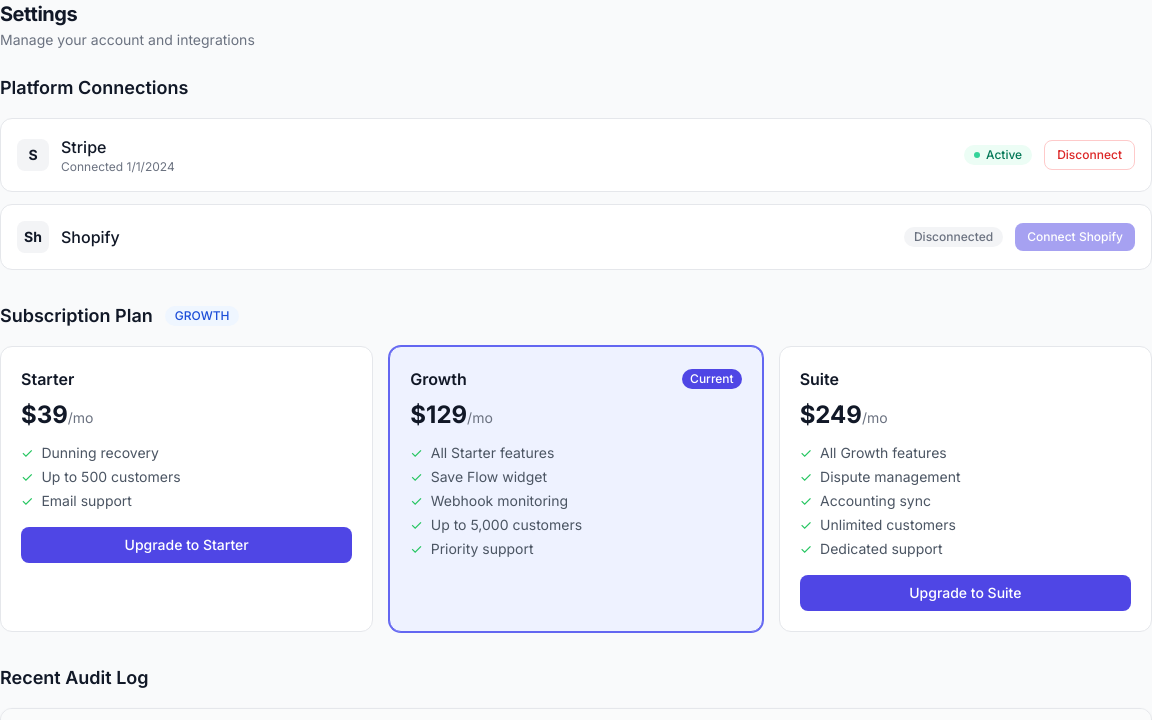
SettingsPage › opens confirm dialog when Disconnect is clicked
Click the button "Disconnect" at (1090, 155), box [1044,140,1135,170]
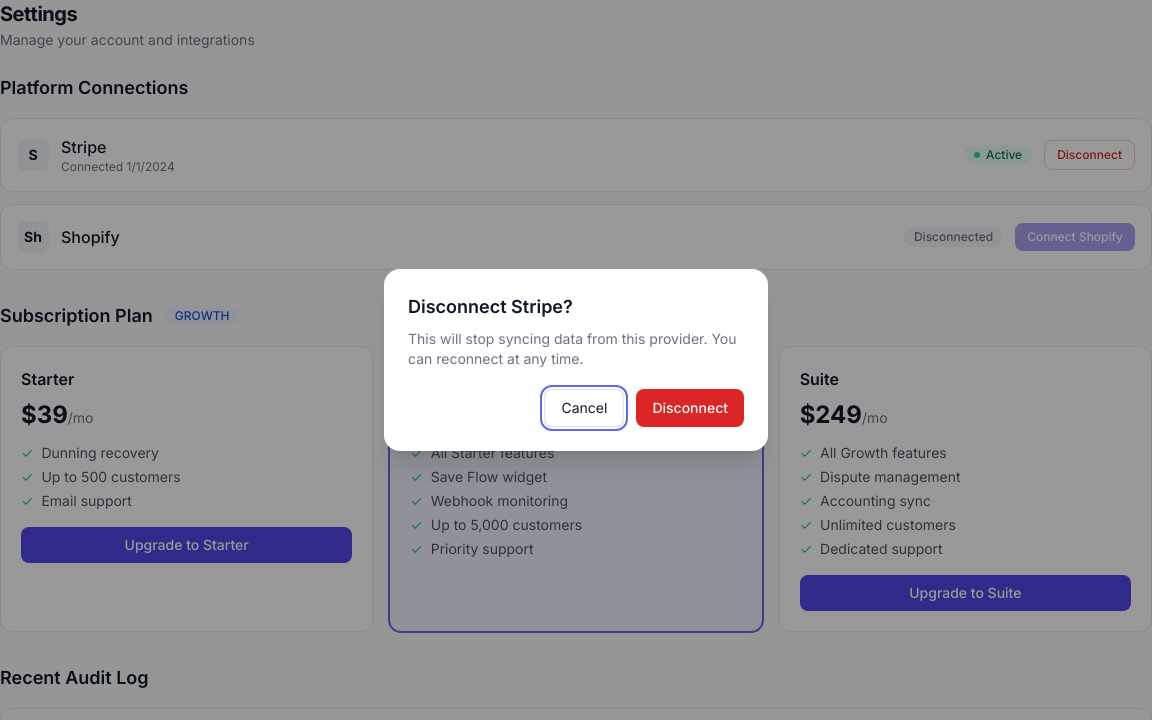
Result: the heading "Disconnect Stripe?" is shown at [408,296,573,317]
